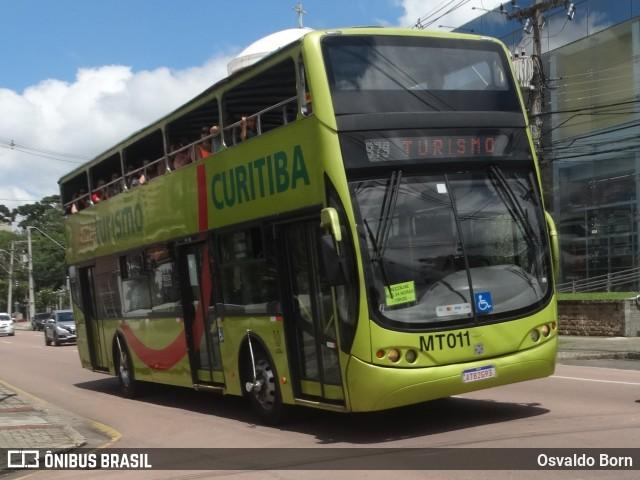TURISMO: (394, 135, 503, 164)
